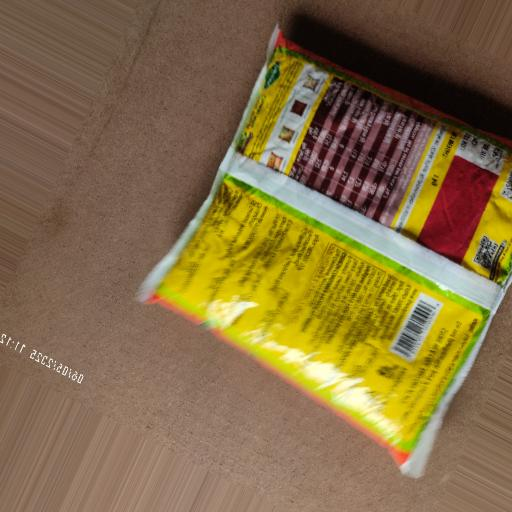Ganesh Atta: (115, 8, 512, 482)
